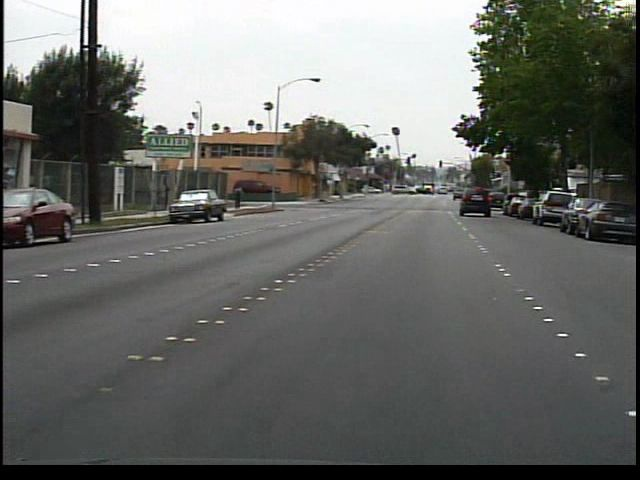person: (237, 181, 253, 213)
